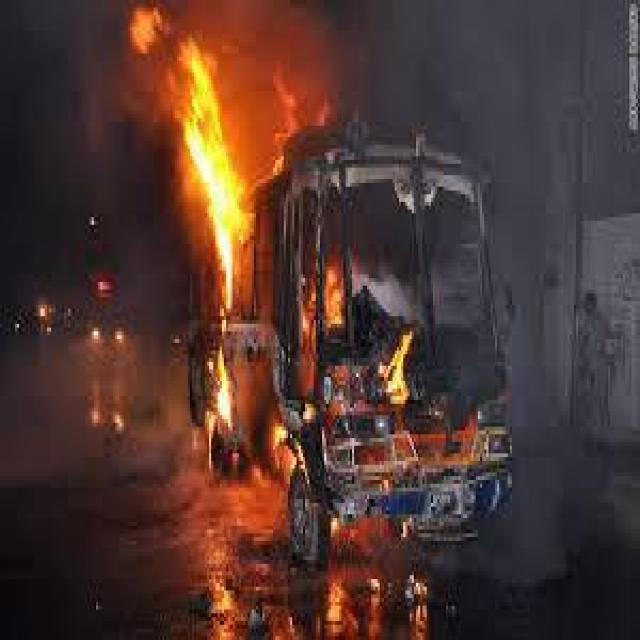fire: (124, 0, 426, 480)
